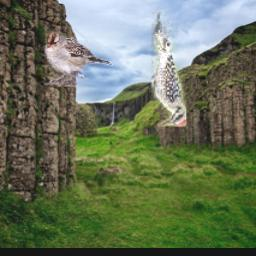Sparrow: (43, 31, 114, 87)
Woodpecker: (153, 13, 187, 128)
